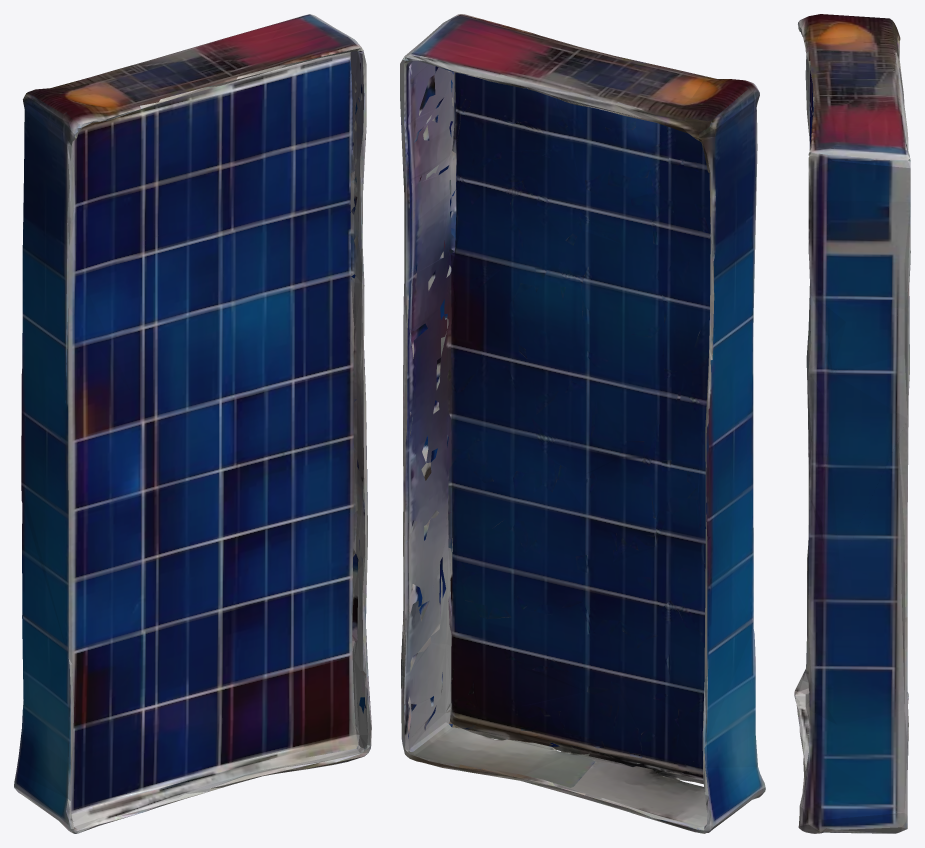
Rendered from emcar-victron-175-phone.glb.
The picture shows the model from 3 angles, left to right: view 1: azimuth 30°, elevation 25°; view 2: azimuth 150°, elevation 25°; view 3: azimuth 270°, elevation 25°; orthographic projection. The views are drawn at different scales.
Parts seen in each view (by area): view 1: demo_textured.obj; view 2: demo_textured.obj; view 3: demo_textured.obj.
Part boxes in pixels (x1=…): demo_textured.obj: x1=14, y1=14, x2=371, y2=833; demo_textured.obj: x1=400, y1=14, x2=765, y2=833; demo_textured.obj: x1=794, y1=14, x2=910, y2=833.
Size of the model in its own units: 0.8975 by 1.99 by 0.3057.
Materials: 1 (1 with a texture image).
